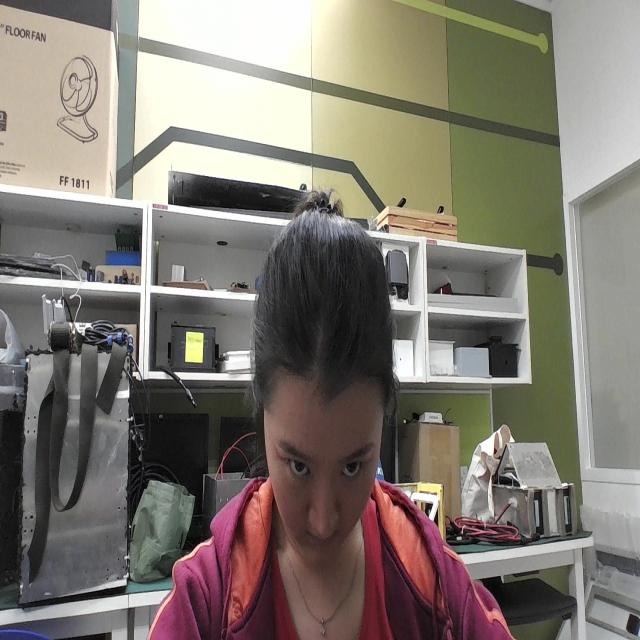Without Helmet: (226, 154, 430, 585)
